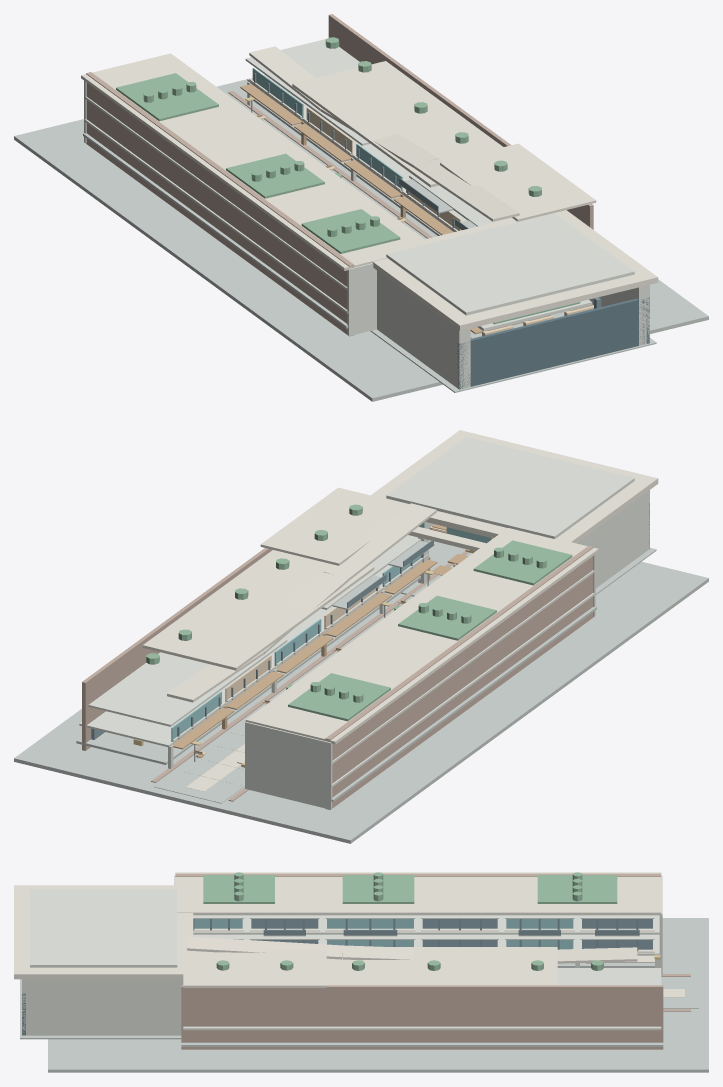
The model's file is a41_street_first.glb.
3 renders of one model, top to bottom at view 1: azimuth 30°, elevation 25°; view 2: azimuth 150°, elevation 25°; view 3: azimuth 270°, elevation 25°, orthographic. The views are drawn at different scales.
Size of the model in its own units: 90 by 20.93 by 174.
